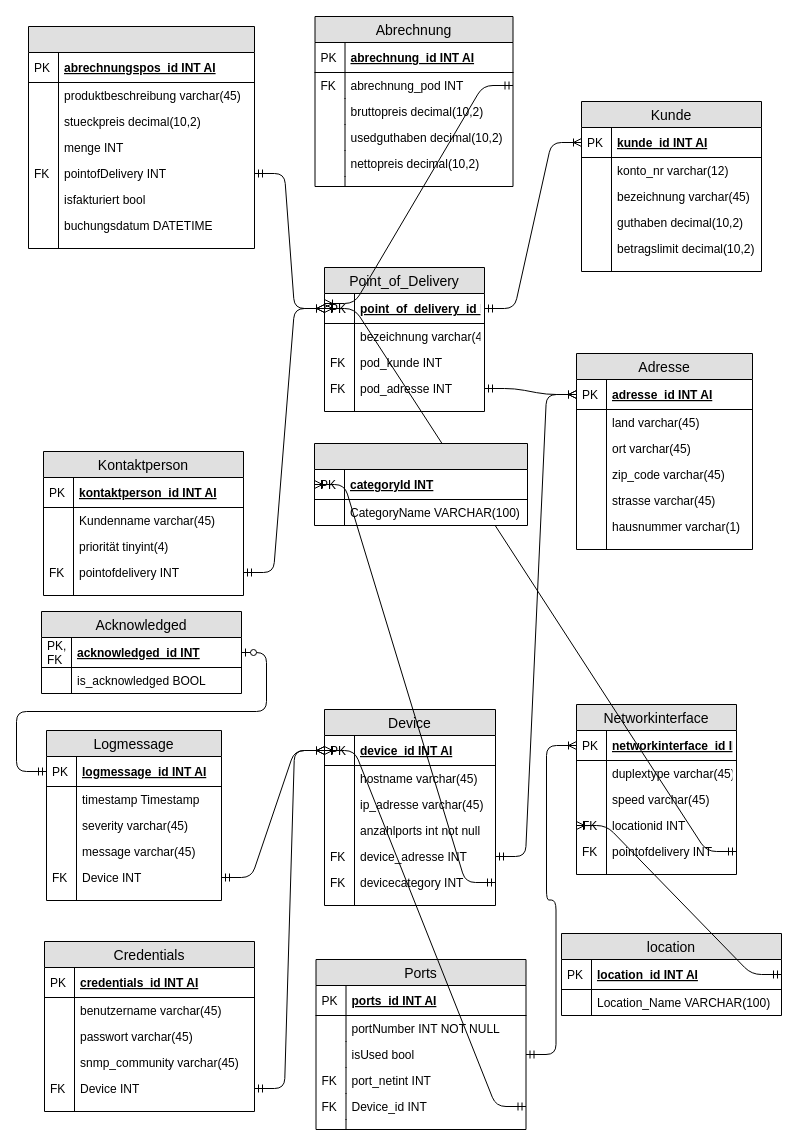
Some shapes in this 798 by 1146 pixel diagram are drawn without their labels. The box of each missing label's shape, as (x1, y1, x2, y2) in pixels:
Abrechnungsposition: (28, 26, 254, 248)
devicecategory: (314, 442, 528, 526)
